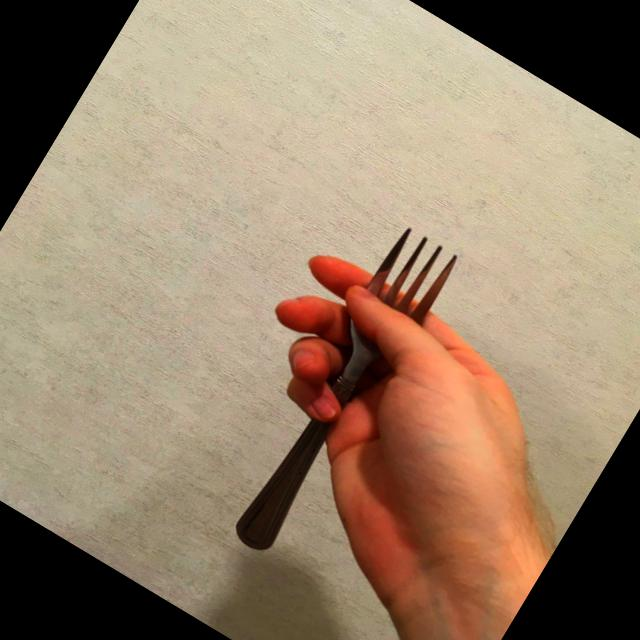fork: (219, 218, 467, 566)
